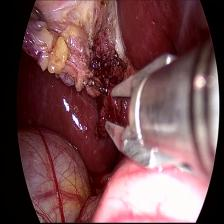Clipper: (103, 50, 214, 175)
Grasper: (26, 6, 50, 31)
